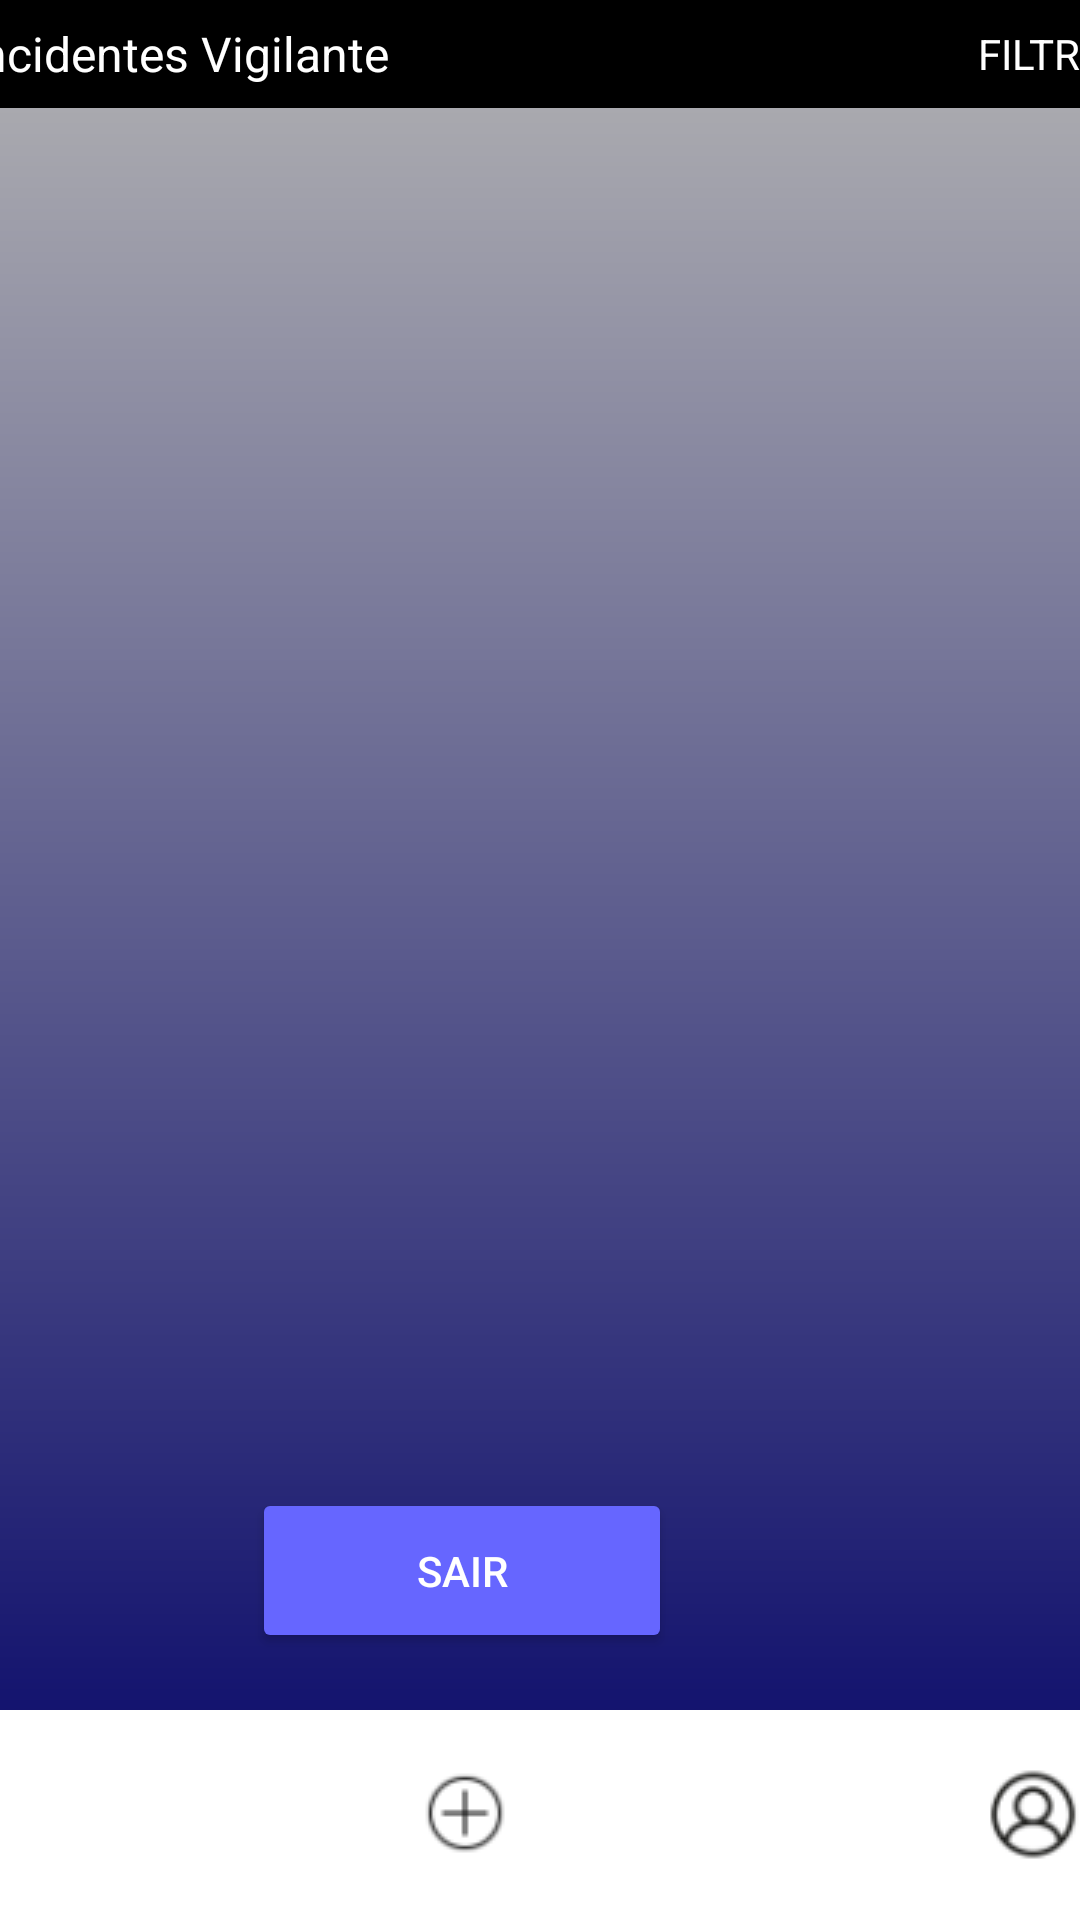

Icons on this 1080px×1920px Android screen, each with the point to tap as point (x, y):
plus: point (465, 1813)
